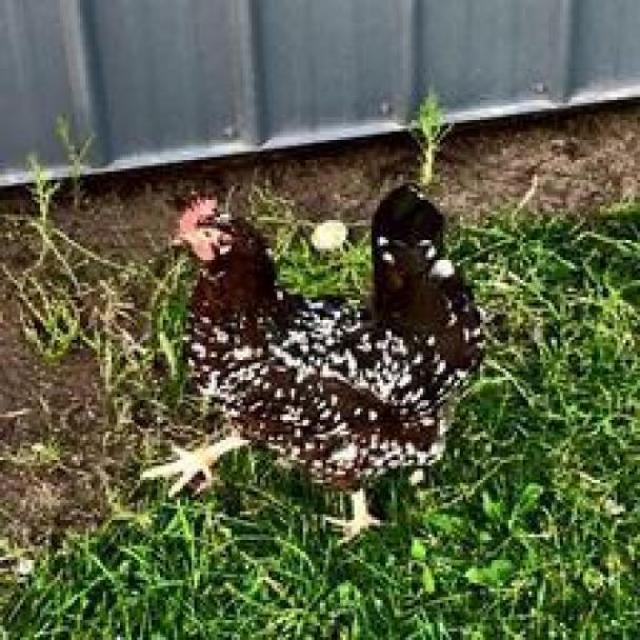Chicken: (137, 187, 481, 560)
